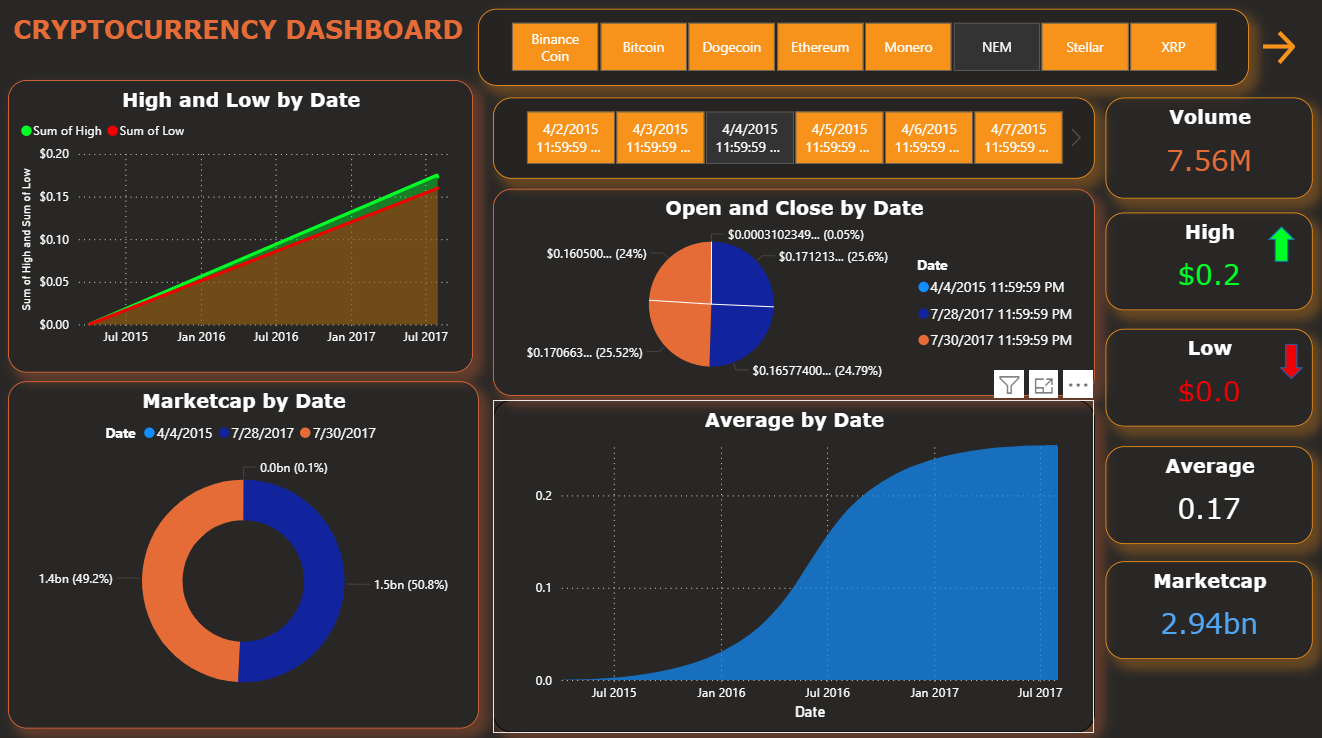

The dashboard page shown, as its layout file describes it:
{"tool":"powerbi","page":{"name":"Overview","canvas":[1280,720],"ordinal":0},"visuals":[{"type":"slicer","fields":{"Values":["CryptoDataSet.Name"]},"box":[463.8,13.7,743.7,74.1],"z":0},{"type":"slicer","fields":{"Values":["CryptoDataSet.Date"]},"box":[477.5,98.8,580.4,78.2],"z":1000},{"type":"actionButton","box":[1214.4,30.2,65.9,41.2],"z":2000},{"type":"cardVisual","title":"Volume","fields":{"Data":["Sum(CryptoDataSet.Volume)"]},"box":[1069,98.8,200.3,97.4],"z":3000},{"type":"cardVisual","title":"High","fields":{"Data":["Max(CryptoDataSet.High)"]},"box":[1069,209.9,200.3,94.7],"z":4000},{"type":"cardVisual","title":"Low","fields":{"Data":["Min(CryptoDataSet.Low)"]},"box":[1069,322.5,200.3,94.7],"z":5000},{"type":"cardVisual","title":"Average","fields":{"Data":["Avg(CryptoDataSet.Average)"]},"box":[1069,435,200.3,94.7],"z":6000},{"type":"cardVisual","title":"Marketcap","fields":{"Data":["Sum(CryptoDataSet.Marketcap)"]},"box":[1069,546.1,200.3,94.7],"z":7000},{"type":"shape","box":[1225.4,223.7,26.1,34.3],"z":8000},{"type":"shape","box":[1236.4,336.2,23.3,34.3],"z":9000},{"type":"textbox","box":[9.6,13.7,448.7,57.6],"z":10000},{"type":"areaChart","title":"High and Low by Date","fields":{"Category":["CryptoDataSet.Date"],"Y":["Sum(CryptoDataSet.High)","Sum(CryptoDataSet.Low)"]},"box":[9.6,82.3,448.7,282.7],"z":11000},{"type":"pieChart","title":"Open and Close by Date","fields":{"Y":["Sum(CryptoDataSet.Open)","Sum(CryptoDataSet.Close)"],"Category":["CryptoDataSet.Date"]},"box":[477.5,186.6,580.4,200.3],"z":12000},{"type":"donutChart","title":"Marketcap by Date","fields":{"Y":["Sum(CryptoDataSet.Marketcap)"],"Series":["CryptoDataSet.Date"]},"box":[9.6,373.2,454.2,334.8],"z":13000},{"type":"ribbonChart","title":"Average by Date","fields":{"Category":["CryptoDataSet.Date"],"Y":["Sum(CryptoDataSet.Average)"]},"box":[477.5,391.1,580.4,321.1],"z":14000}]}

Visuals, with their boxes in screenshot pixels (x1, y1, x2, y2), scaled from the page's 1280x720 canvas onto the 1322x738 screenshot:
slicer - CryptoDataSet.Name: [left=479, top=14, right=1247, bottom=90]
slicer - CryptoDataSet.Date: [left=493, top=101, right=1093, bottom=181]
actionButton: [left=1254, top=31, right=1321, bottom=73]
"Volume" cardVisual: [left=1104, top=101, right=1311, bottom=201]
"High" cardVisual: [left=1104, top=215, right=1311, bottom=312]
"Low" cardVisual: [left=1104, top=331, right=1311, bottom=428]
"Average" cardVisual: [left=1104, top=446, right=1311, bottom=543]
"Marketcap" cardVisual: [left=1104, top=560, right=1311, bottom=657]
shape: [left=1266, top=229, right=1293, bottom=264]
shape: [left=1277, top=345, right=1301, bottom=380]
textbox: [left=10, top=14, right=473, bottom=73]
"High and Low by Date" areaChart: [left=10, top=84, right=473, bottom=374]
"Open and Close by Date" pieChart: [left=493, top=191, right=1093, bottom=397]
"Marketcap by Date" donutChart: [left=10, top=383, right=479, bottom=726]
"Average by Date" ribbonChart: [left=493, top=401, right=1093, bottom=730]
